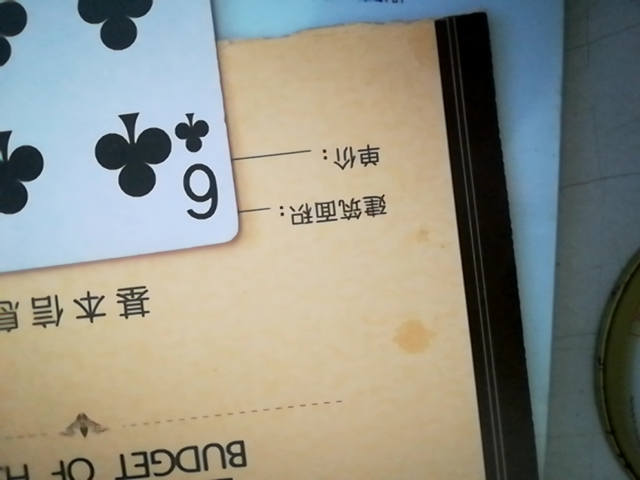mh 6: (0, 0, 240, 290)
